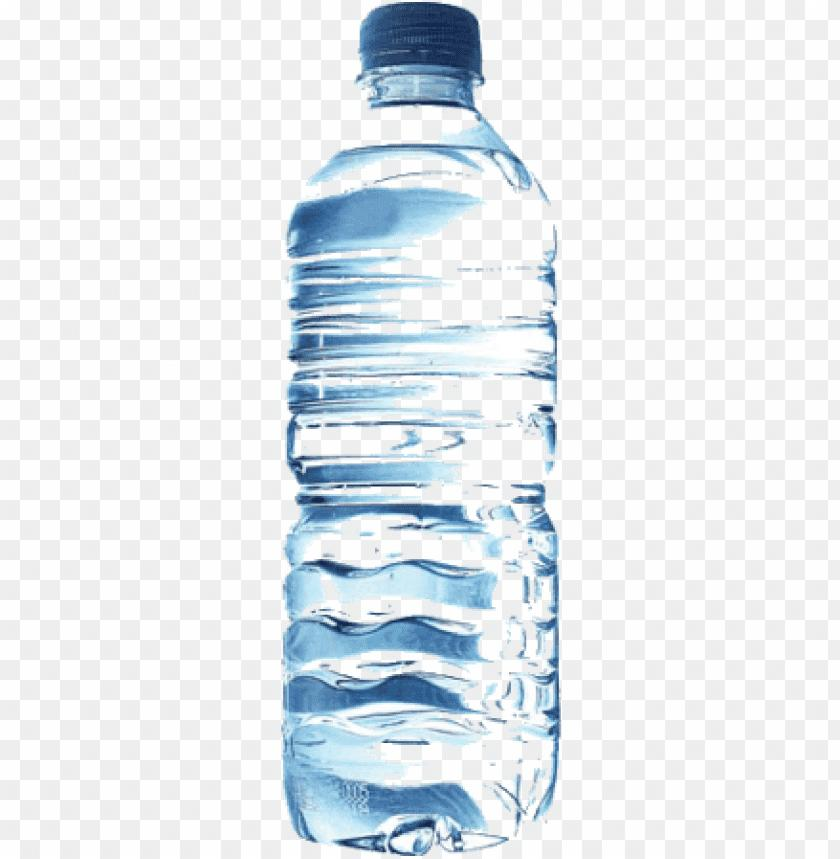plastic_bottle: (283, 2, 569, 851)
